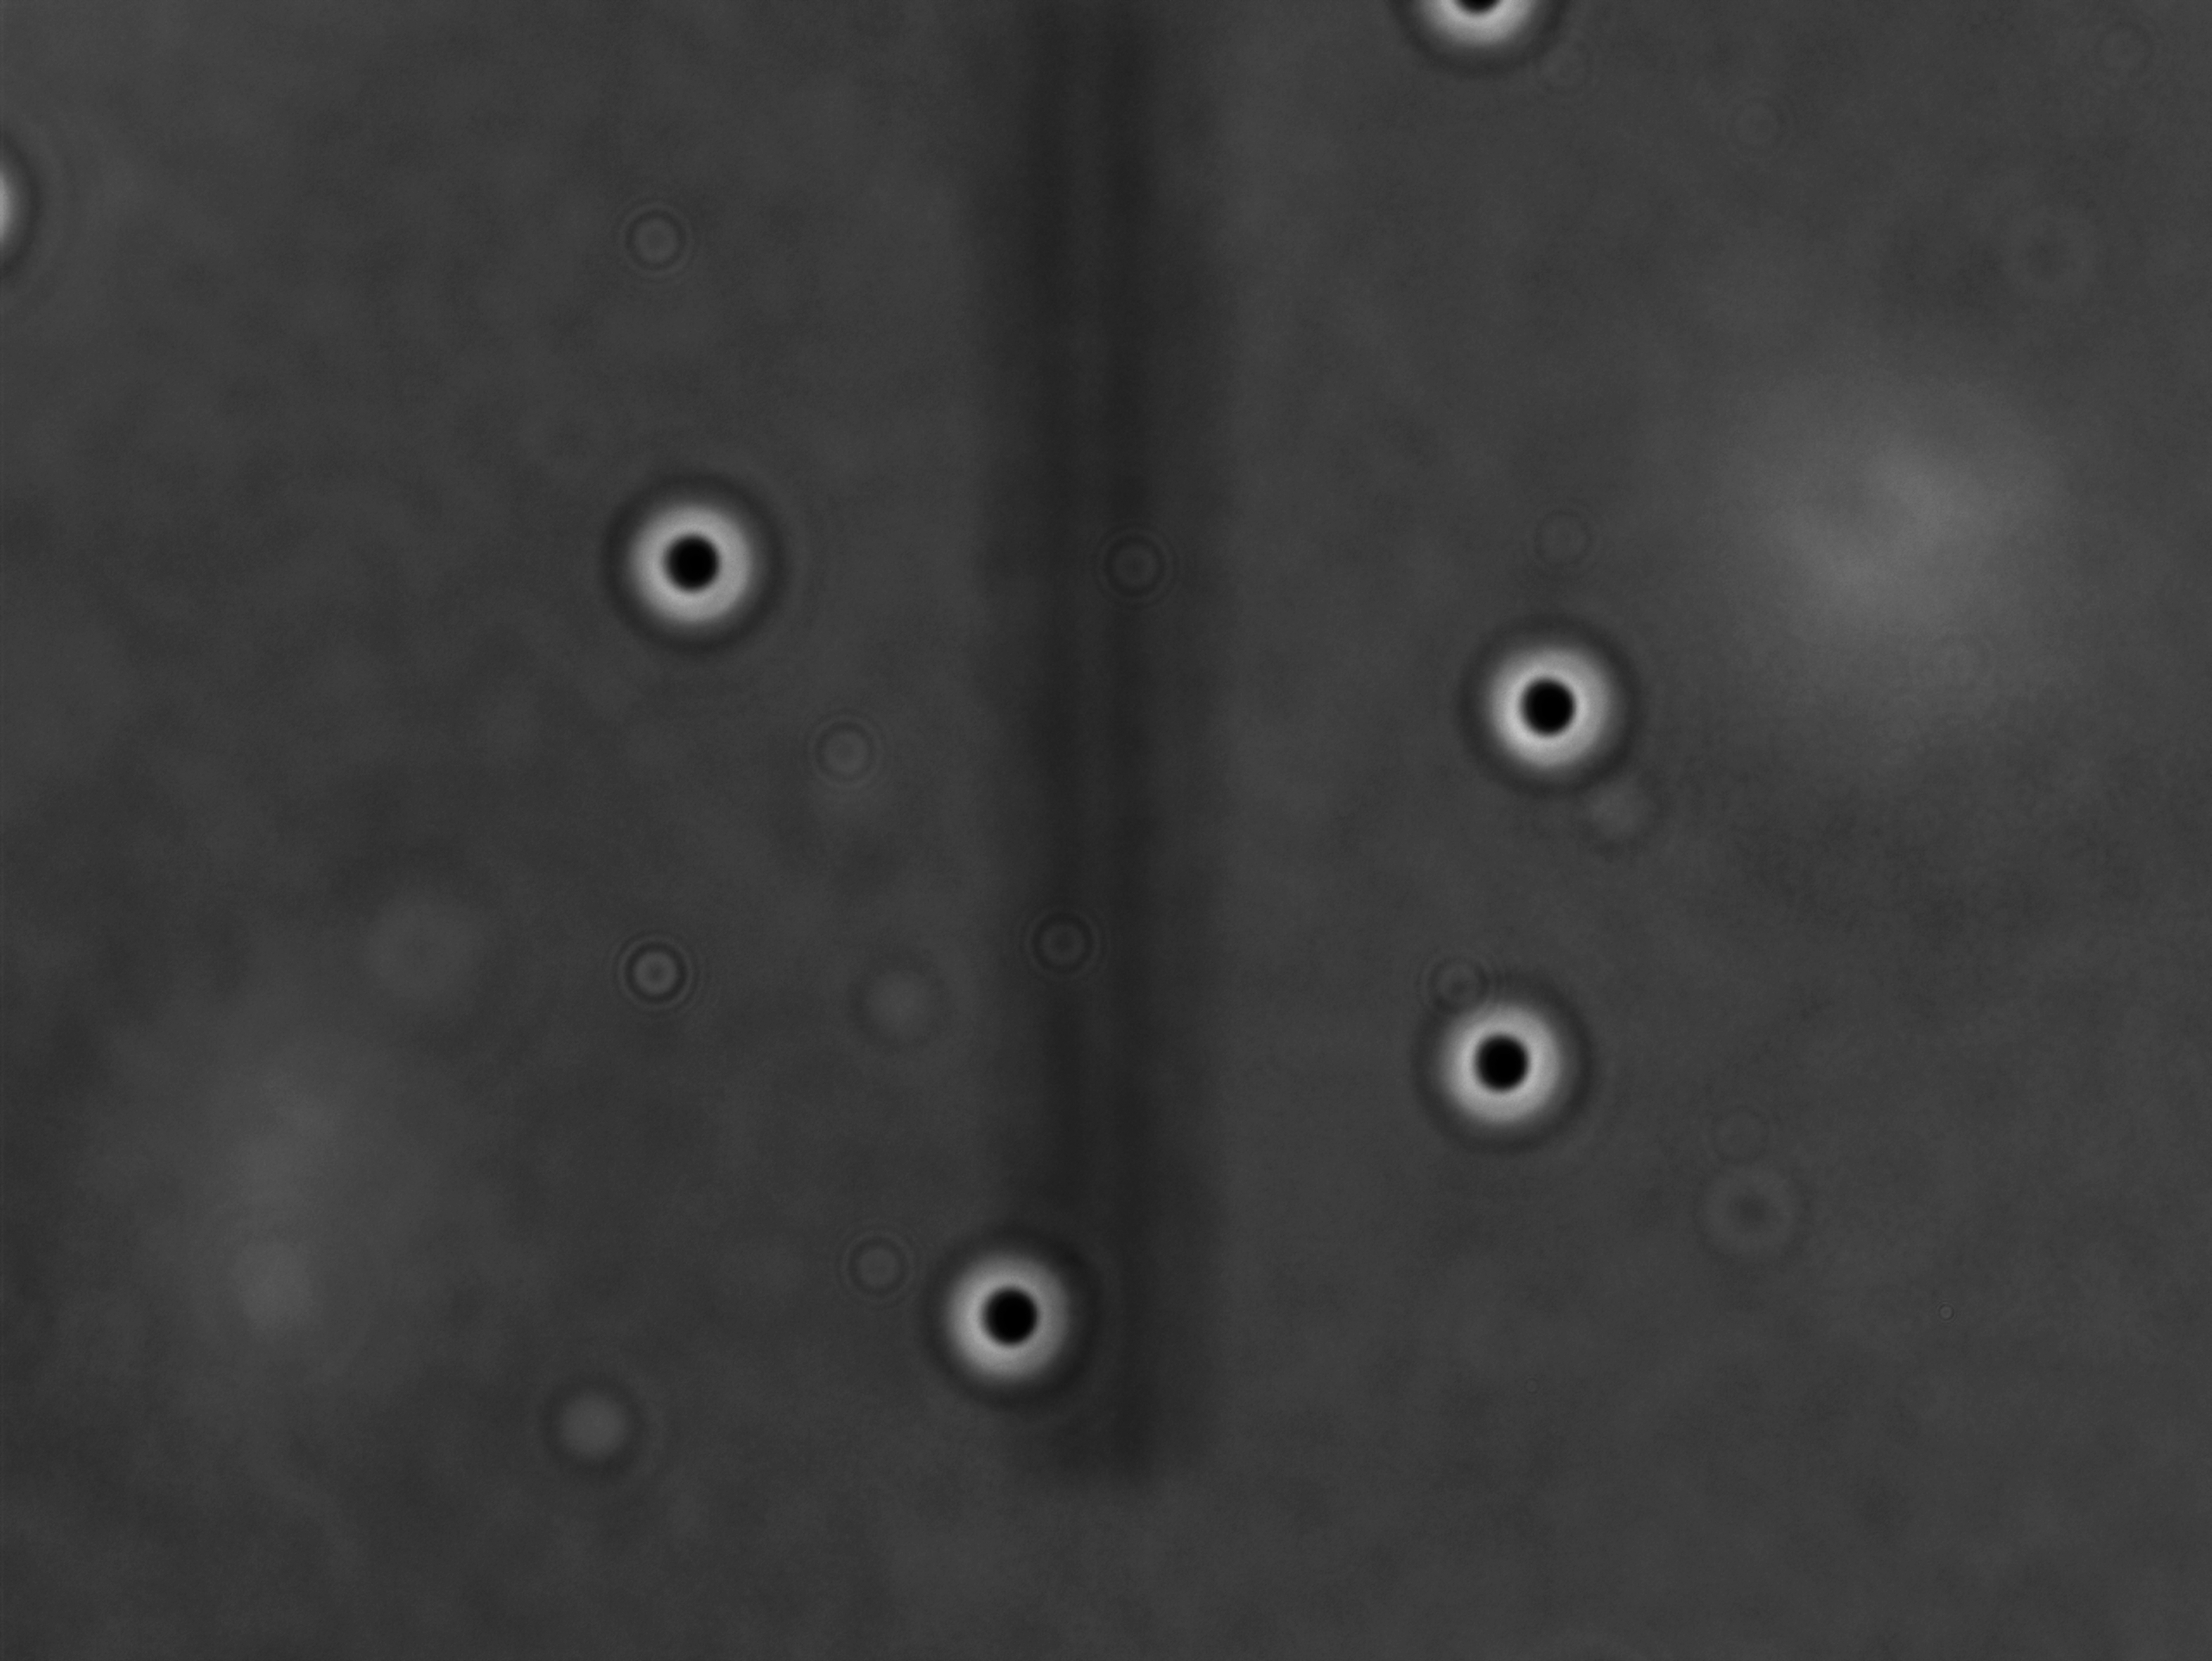depth:-60: (1415, 972, 1615, 1160), (905, 1221, 1106, 1401), (1450, 621, 1642, 796), (604, 492, 780, 647)
